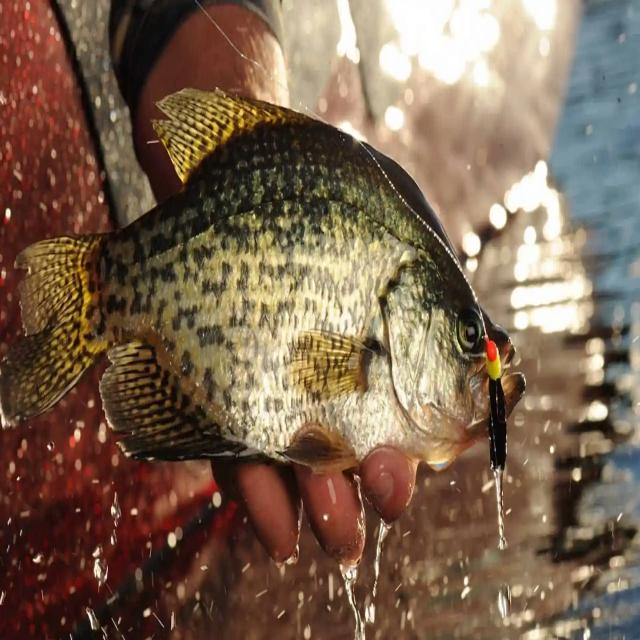Crappie - Black: (0, 89, 525, 471)
